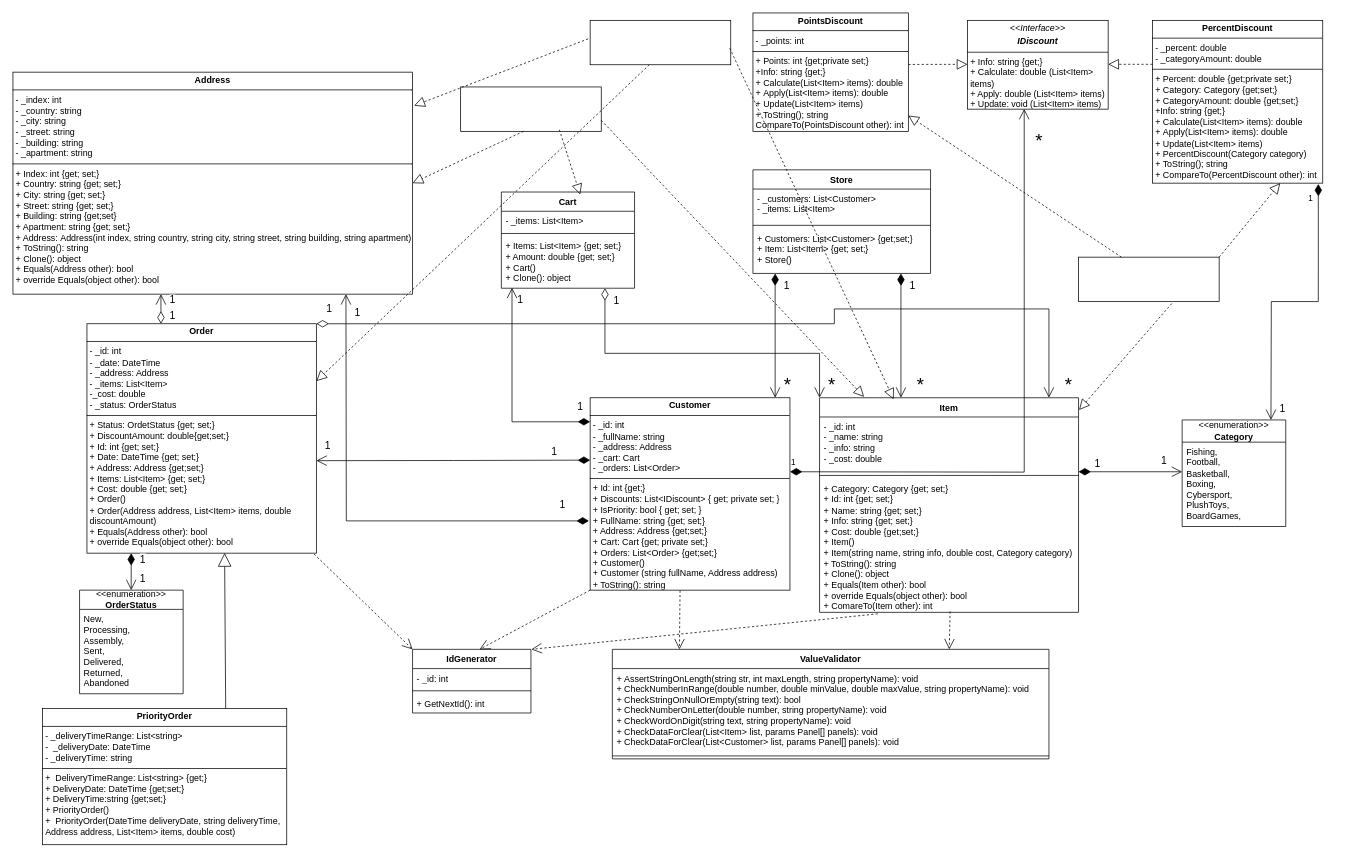
Some shapes in this 1345 by 858 pixel diagram are drawn without their labels. Each missing label, with the centre of its shape:
"<<Interface>> ICloneable + Clone(): object" goes at pixel 530 108.
"<<Interface>> IComparable + Compare(T): int" goes at pixel 1148 279.
"<<Interface>> IEquatable + Equals(T): bool" goes at pixel 660 42.
